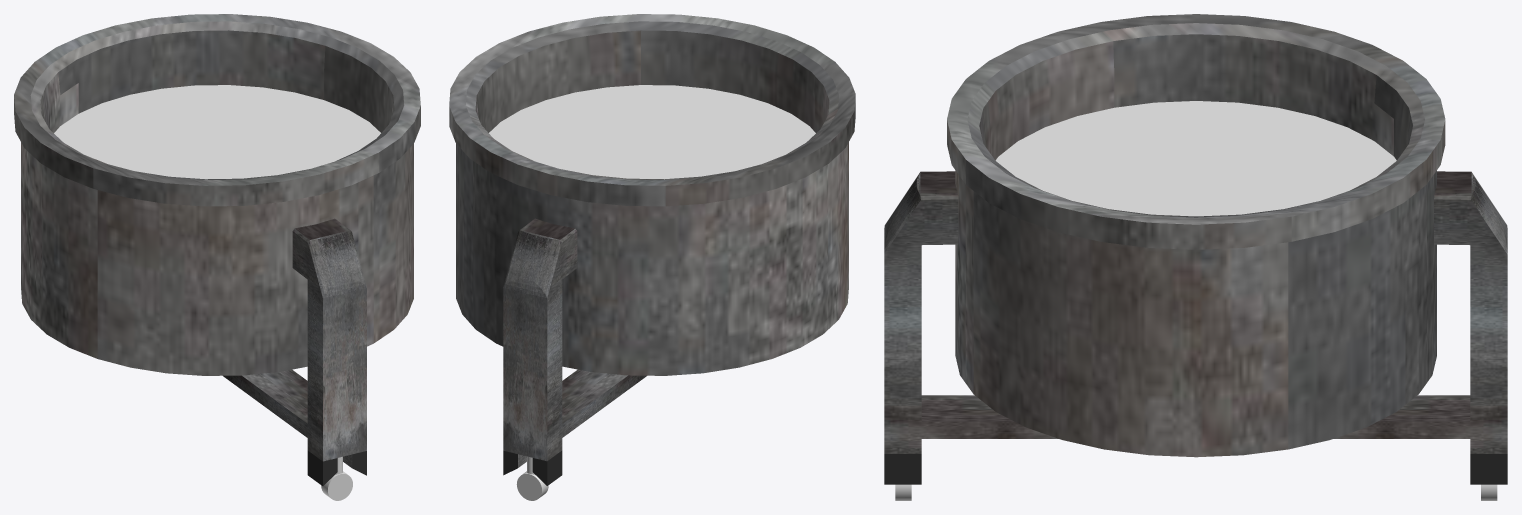
Rendered from SpotlightBig.fbx.
3 renders of one model, left to right at view 1: azimuth 30°, elevation 25°; view 2: azimuth 150°, elevation 25°; view 3: azimuth 270°, elevation 25°, orthographic. The views are drawn at different scales.
Visible parts, largest first — view 1: Shell, Light, brace, Wheel2; view 2: Shell, Light, brace, Wheel1; view 3: Shell, brace, Light.
Boxes of the visible parts, x1,y1,x2,y2 form: Shell: (14,14,420,375); Light: (54,85,380,179); brace: (223,218,366,485); Wheel2: (321,471,352,500); Shell: (449,14,855,375); Light: (489,85,815,179); brace: (503,218,646,485); Wheel1: (516,471,548,500); Shell: (947,14,1445,457); brace: (884,171,1507,484); Light: (995,101,1396,216).
Size of the model in its own units: 207 by 174 by 259.
